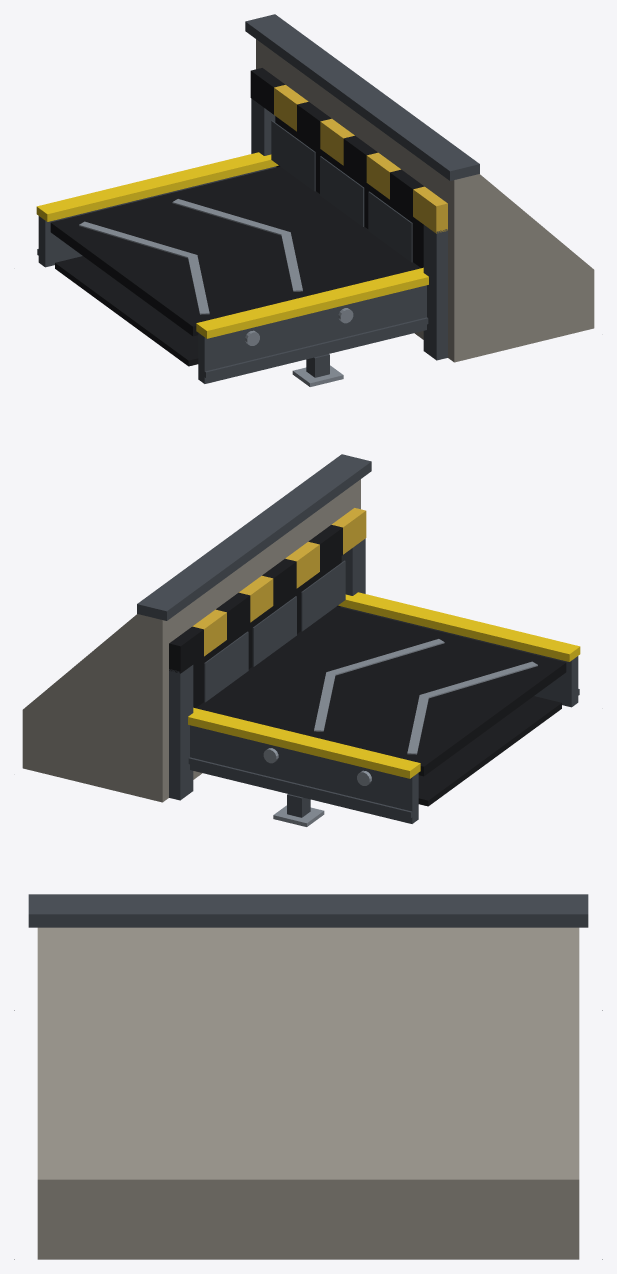
The model's file is convoyeur_tunnel_entree_t1.glb.
The picture shows the model from 3 angles, top to bottom: view 1: azimuth 30°, elevation 25°; view 2: azimuth 150°, elevation 25°; view 3: azimuth 270°, elevation 25°; orthographic projection. The views are drawn at different scales.
Visible parts, largest first — view 1: pieces_noir.024, pieces_acier_sombre.016, bouche.012, pieces_rive_t1.006, pieces_jaune.018, bande_acier.042, pieces_acier.048; view 2: pieces_noir.024, pieces_acier_sombre.016, bouche.012, pieces_rive_t1.006, pieces_jaune.018, bande_acier.042, pieces_acier.048; view 3: bouche.012, pieces_acier_sombre.016.
Part boxes in pixels (x1,y1,x2,y2): pieces_noir.024: (50,68,424,366); pieces_acier_sombre.016: (37,14,479,383); bouche.012: (256,39,594,362); pieces_rive_t1.006: (36,152,428,338); pieces_jaune.018: (274,85,447,233); bande_acier.042: (79,199,302,314); pieces_acier.048: (245,308,353,386); pieces_noir.024: (169,525,566,806); pieces_acier_sombre.016: (137,454,579,823); bouche.012: (22,479,360,802); pieces_rive_t1.006: (188,592,580,778); pieces_jaune.018: (192,508,366,656); bande_acier.042: (314,639,537,754); pieces_acier.048: (263,748,371,826); bouche.012: (37,927,579,1259); pieces_acier_sombre.016: (28,894,588,927).
Bounding box in the file's own units: 1 × 0.5 × 1.
